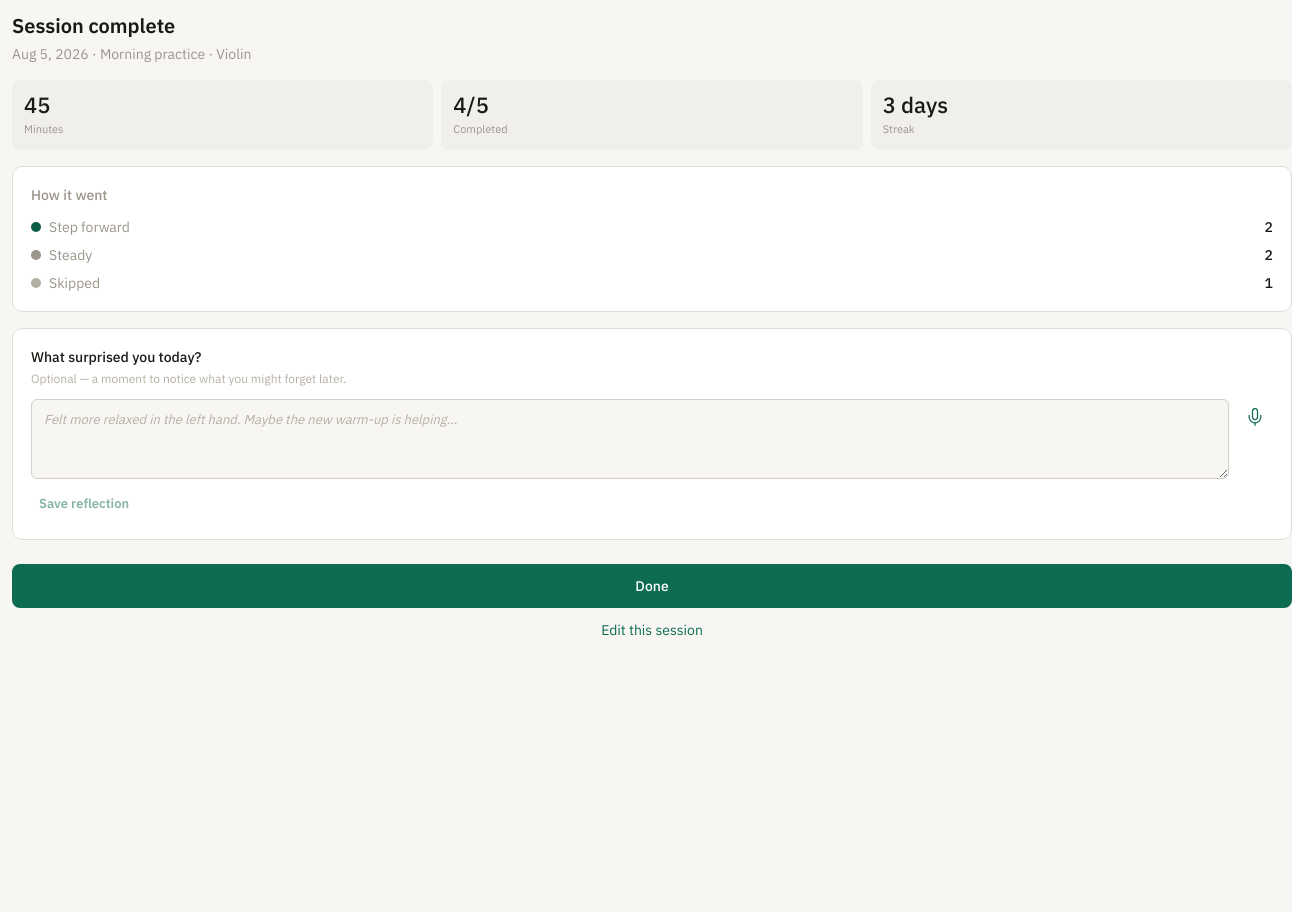
session summary reflection voice input › dictates a reflection and saves it
Expected: the text "What surprised you today?" is shown, [31,348,201,366]
Click the button named "Dictate your reflection". click: (1255, 417)
box: [1237,399,1273,435]
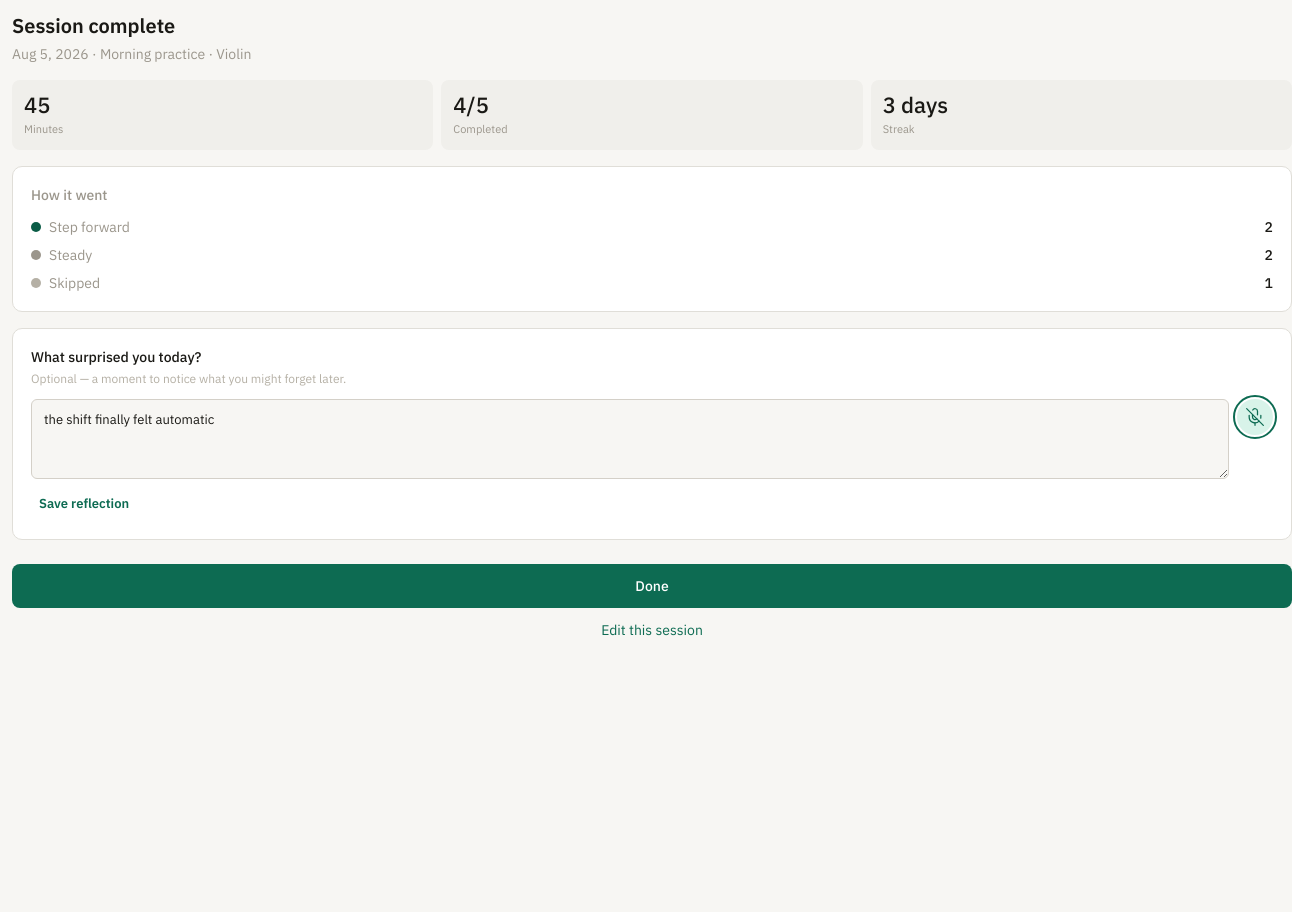
Expected: the text box with placeholder "Felt more relaxed" holds "the shift finally felt automatic", [31,399,1229,479]
Click the button "Save reflection". click: (84, 504)
box: [31,487,137,521]
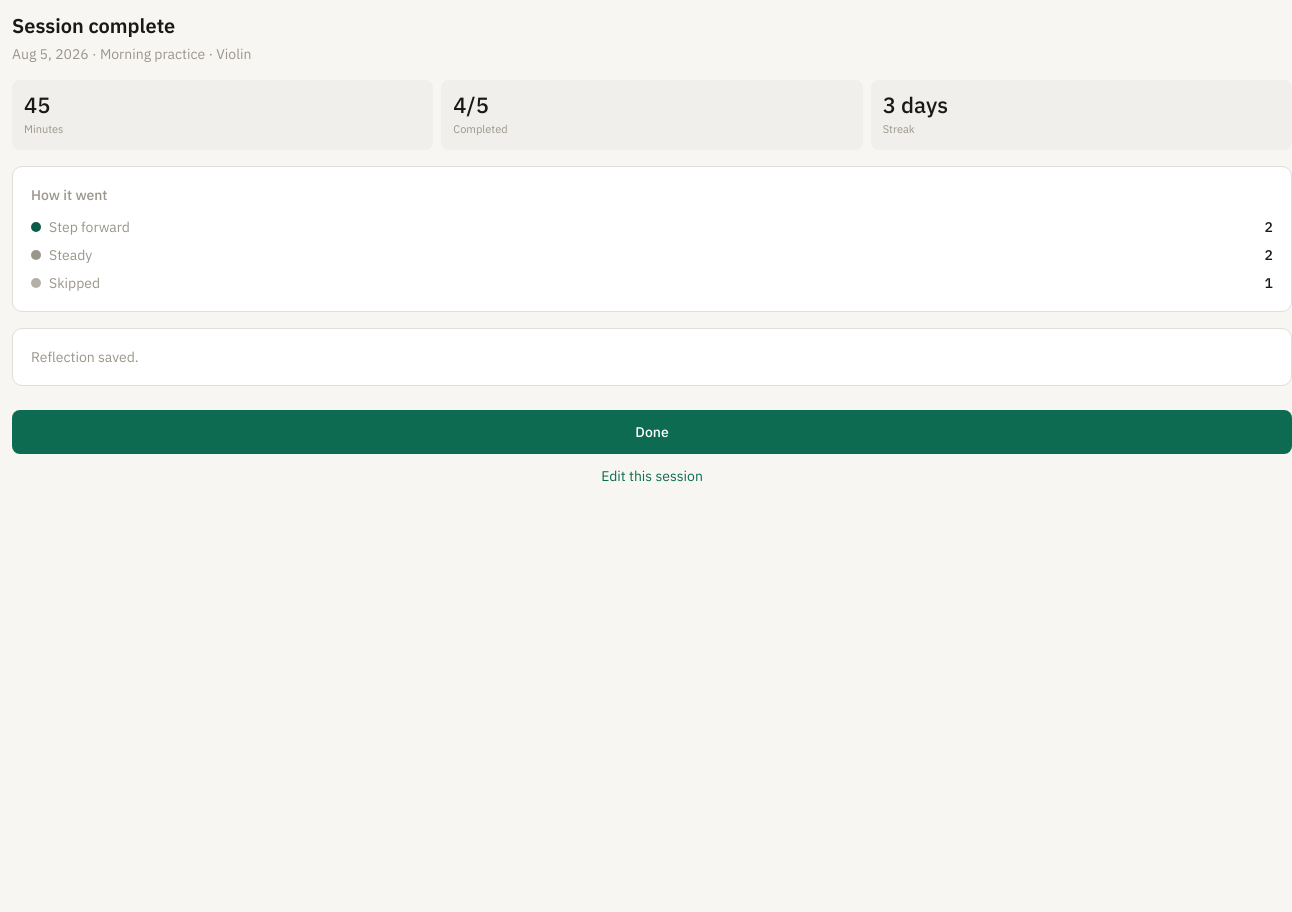
Expected: the text "Reflection saved." is shown, [31,348,139,366]
